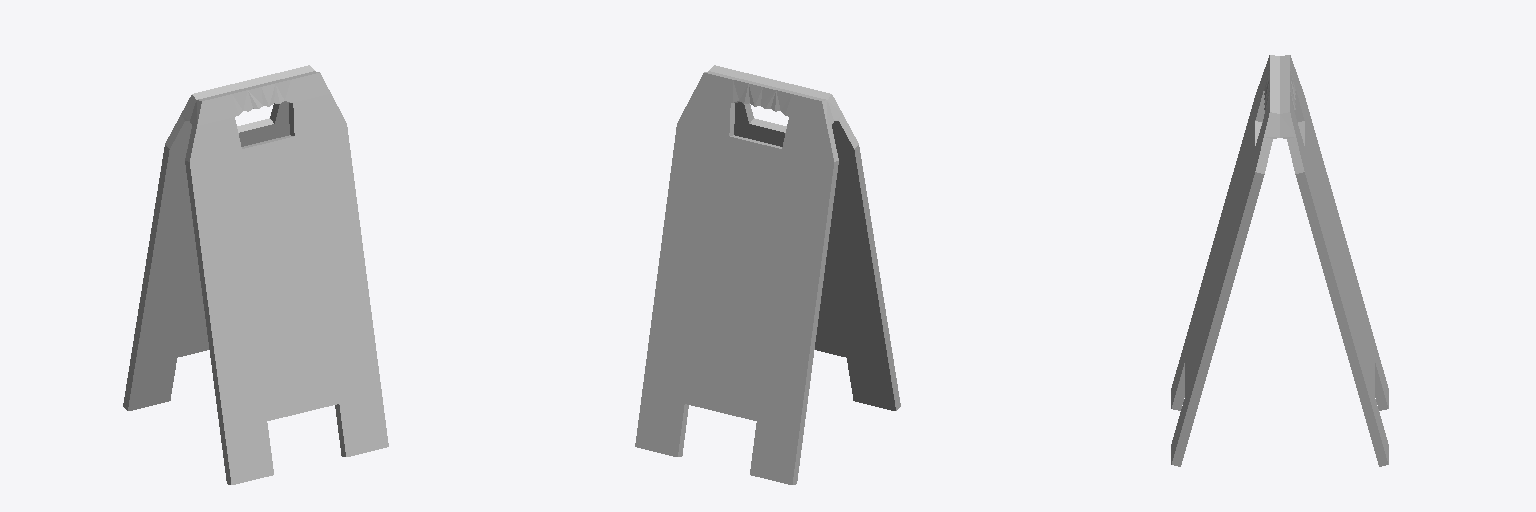
The model's file is WetFloorSign_01_4k.obj.
The picture shows the model from 3 angles: view 1: azimuth 30°, elevation 25°; view 2: azimuth 150°, elevation 25°; view 3: azimuth 270°, elevation 25°; orthographic projection.
Parts seen in each view (by area): view 1: WetFloorSign_01_Mesh; view 2: WetFloorSign_01_Mesh; view 3: WetFloorSign_01_Mesh.
Boxes of the visible parts, x1,y1,x2,y2 form: WetFloorSign_01_Mesh: [123, 65, 388, 484]; WetFloorSign_01_Mesh: [635, 65, 900, 484]; WetFloorSign_01_Mesh: [1171, 55, 1388, 466].
Bounding box in the file's own units: 0.3001 × 0.6295 × 0.3585.